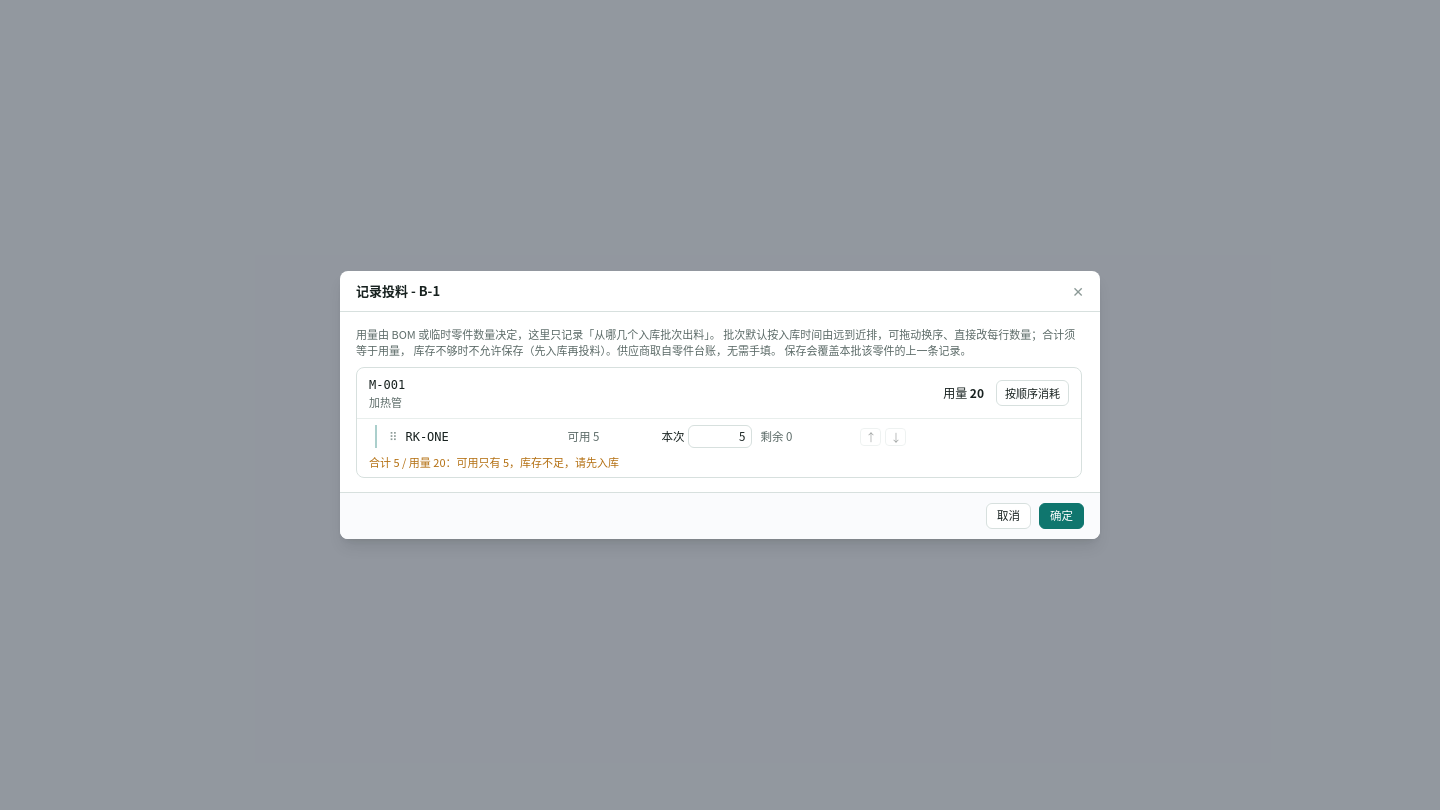
可用量不够时直接拦住保存，并提示先入库
This screenshot has width=1440, height=810.
Click the button "确定" at (1062, 516), box x1=1039 y1=503 x2=1084 y2=529
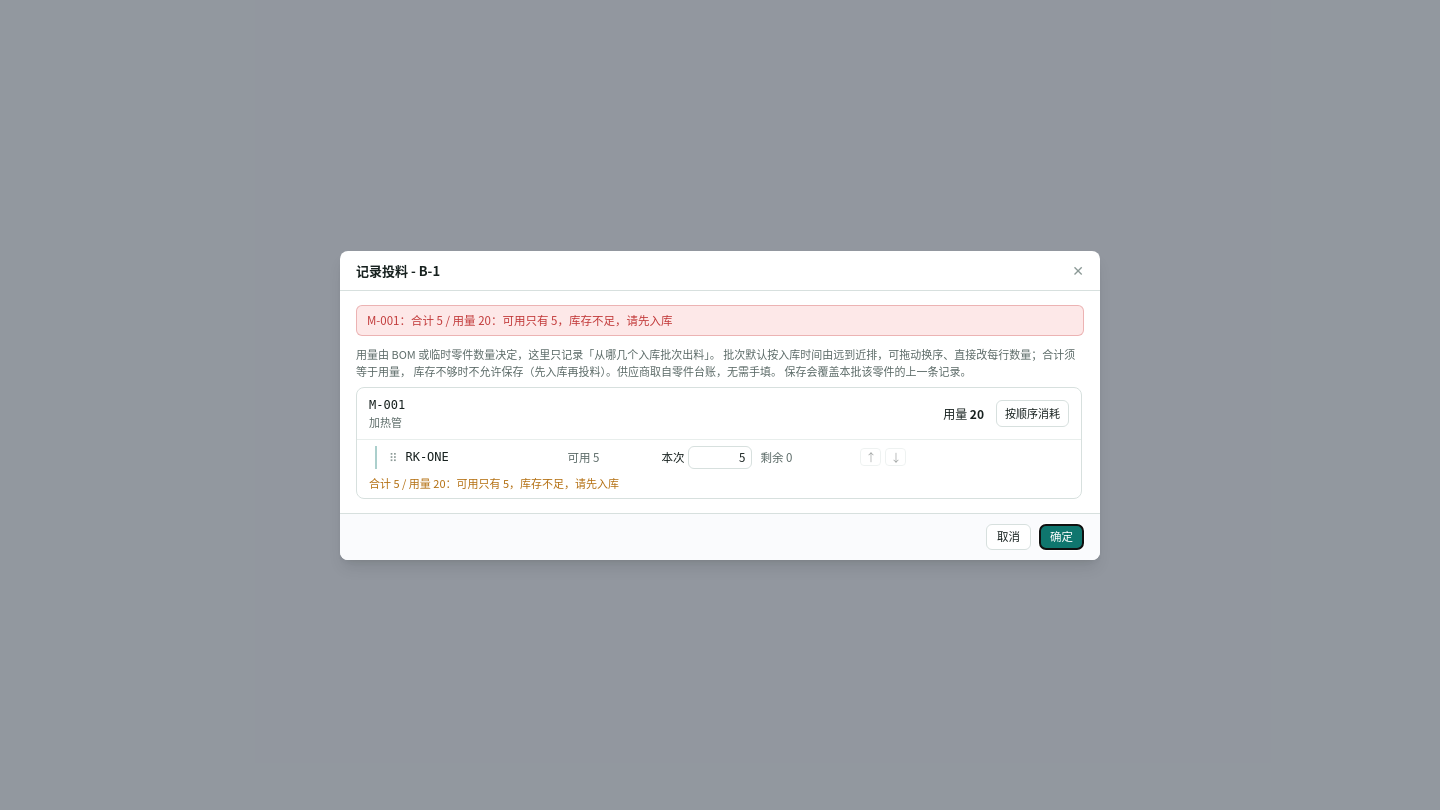
Expected: the message shows "库存不足", x1=367 y1=312 x2=672 y2=328
